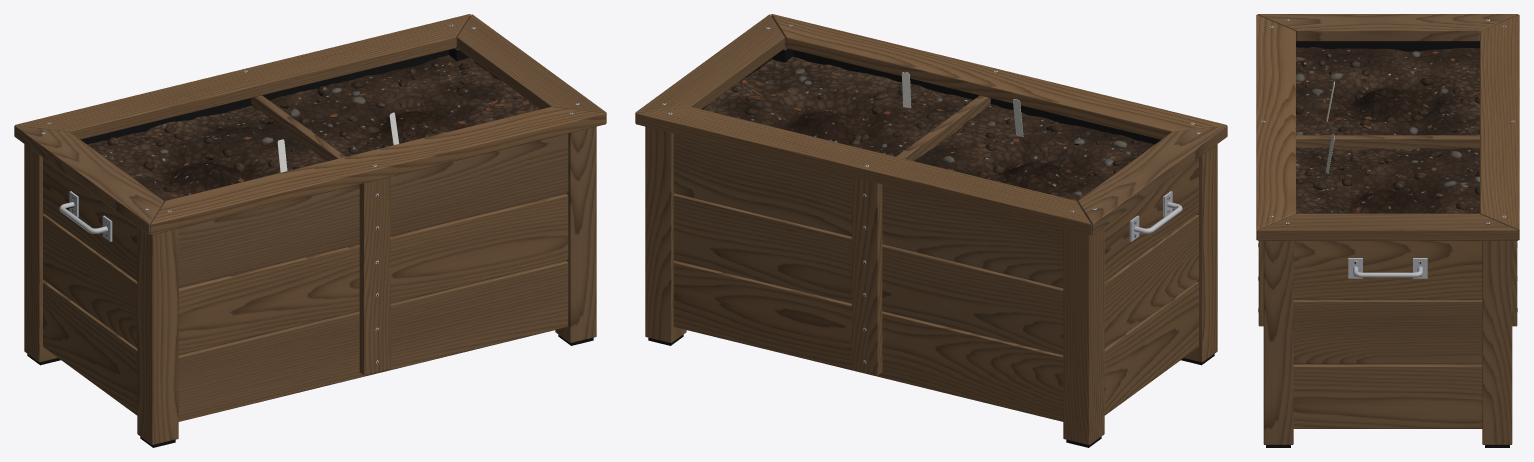
Rendered from planter_box.obj.
The picture shows the model from 3 angles, left to right: view 1: azimuth 30°, elevation 25°; view 2: azimuth 150°, elevation 25°; view 3: azimuth 270°, elevation 25°; orthographic projection. The views are drawn at different scales.
Parts seen in each view (by area): view 1: Planter_Box; view 2: Planter_Box; view 3: Planter_Box.
Part boxes in pixels (box(x1,y1,x2,y2)): Planter_Box: box(14, 14, 606, 447); Planter_Box: box(635, 14, 1227, 447); Planter_Box: box(1256, 14, 1519, 447).
Bounding box in the file's own units: 1.06 × 0.5211 × 0.53.
Materials: 1 (1 with a texture image).
